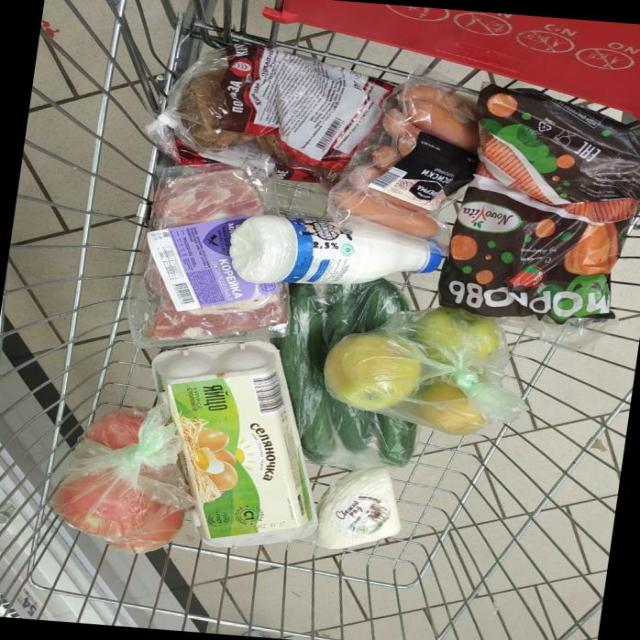Apple: (323, 332, 420, 411), (411, 307, 501, 366), (413, 381, 486, 433)
Bread: (147, 44, 392, 180)
Carrot: (482, 136, 549, 201)
Cheese: (314, 467, 399, 548)
Cucumber: (273, 284, 335, 463), (328, 397, 374, 452), (322, 283, 360, 348), (362, 278, 407, 329), (374, 413, 416, 466)
Eggs: (153, 341, 315, 546)
Meat: (127, 166, 289, 346)
Milk: (228, 214, 441, 284)
Sausages: (326, 77, 477, 238)
Tomatoes: (50, 469, 152, 537), (105, 503, 182, 553), (85, 407, 145, 449)
